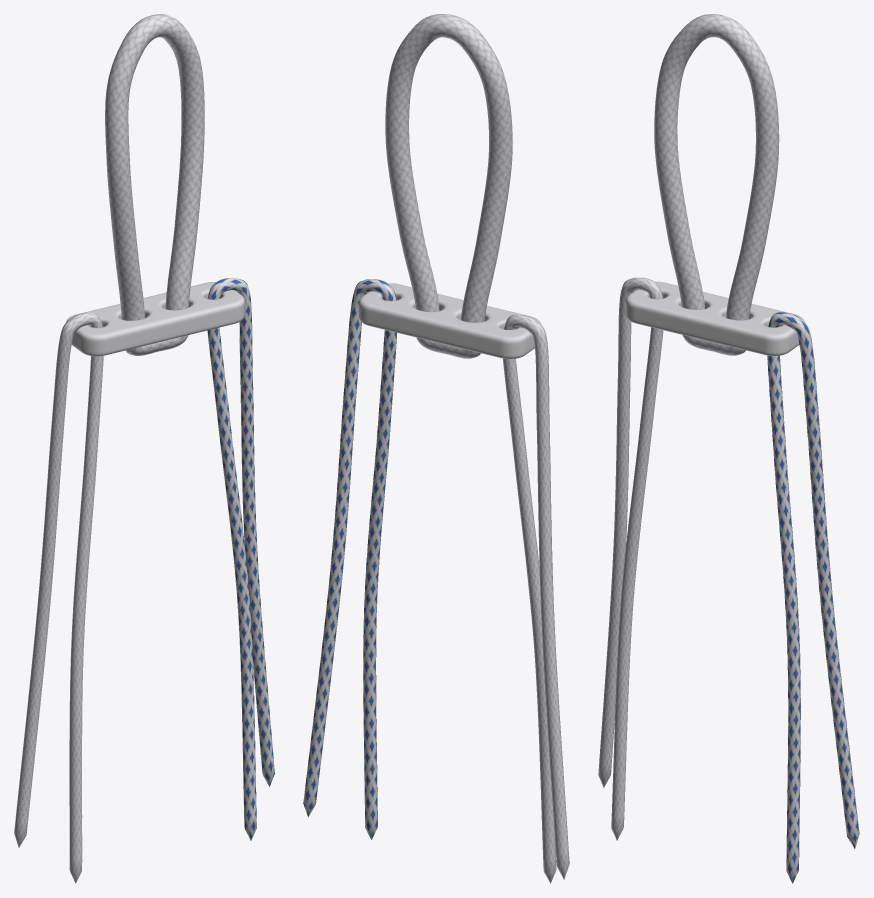
The model's file is ringbutton_20_lod0.glb.
3 views of the same model, side by side, from view 1: azimuth 30°, elevation 25°; view 2: azimuth 150°, elevation 25°; view 3: azimuth 330°, elevation 25° (orthographic). The views are drawn at different scales.
Parts seen in each view (by area): view 1: ringbutton; view 2: ringbutton; view 3: ringbutton.
Part boxes in pixels (x1,y1,x2,y2): ringbutton: (14,14,274,883); ringbutton: (303,14,569,883); ringbutton: (598,14,859,883).
Size of the model in its own units: 0.0192 by 0.0593 by 0.004.
3 materials, 2 textured.
